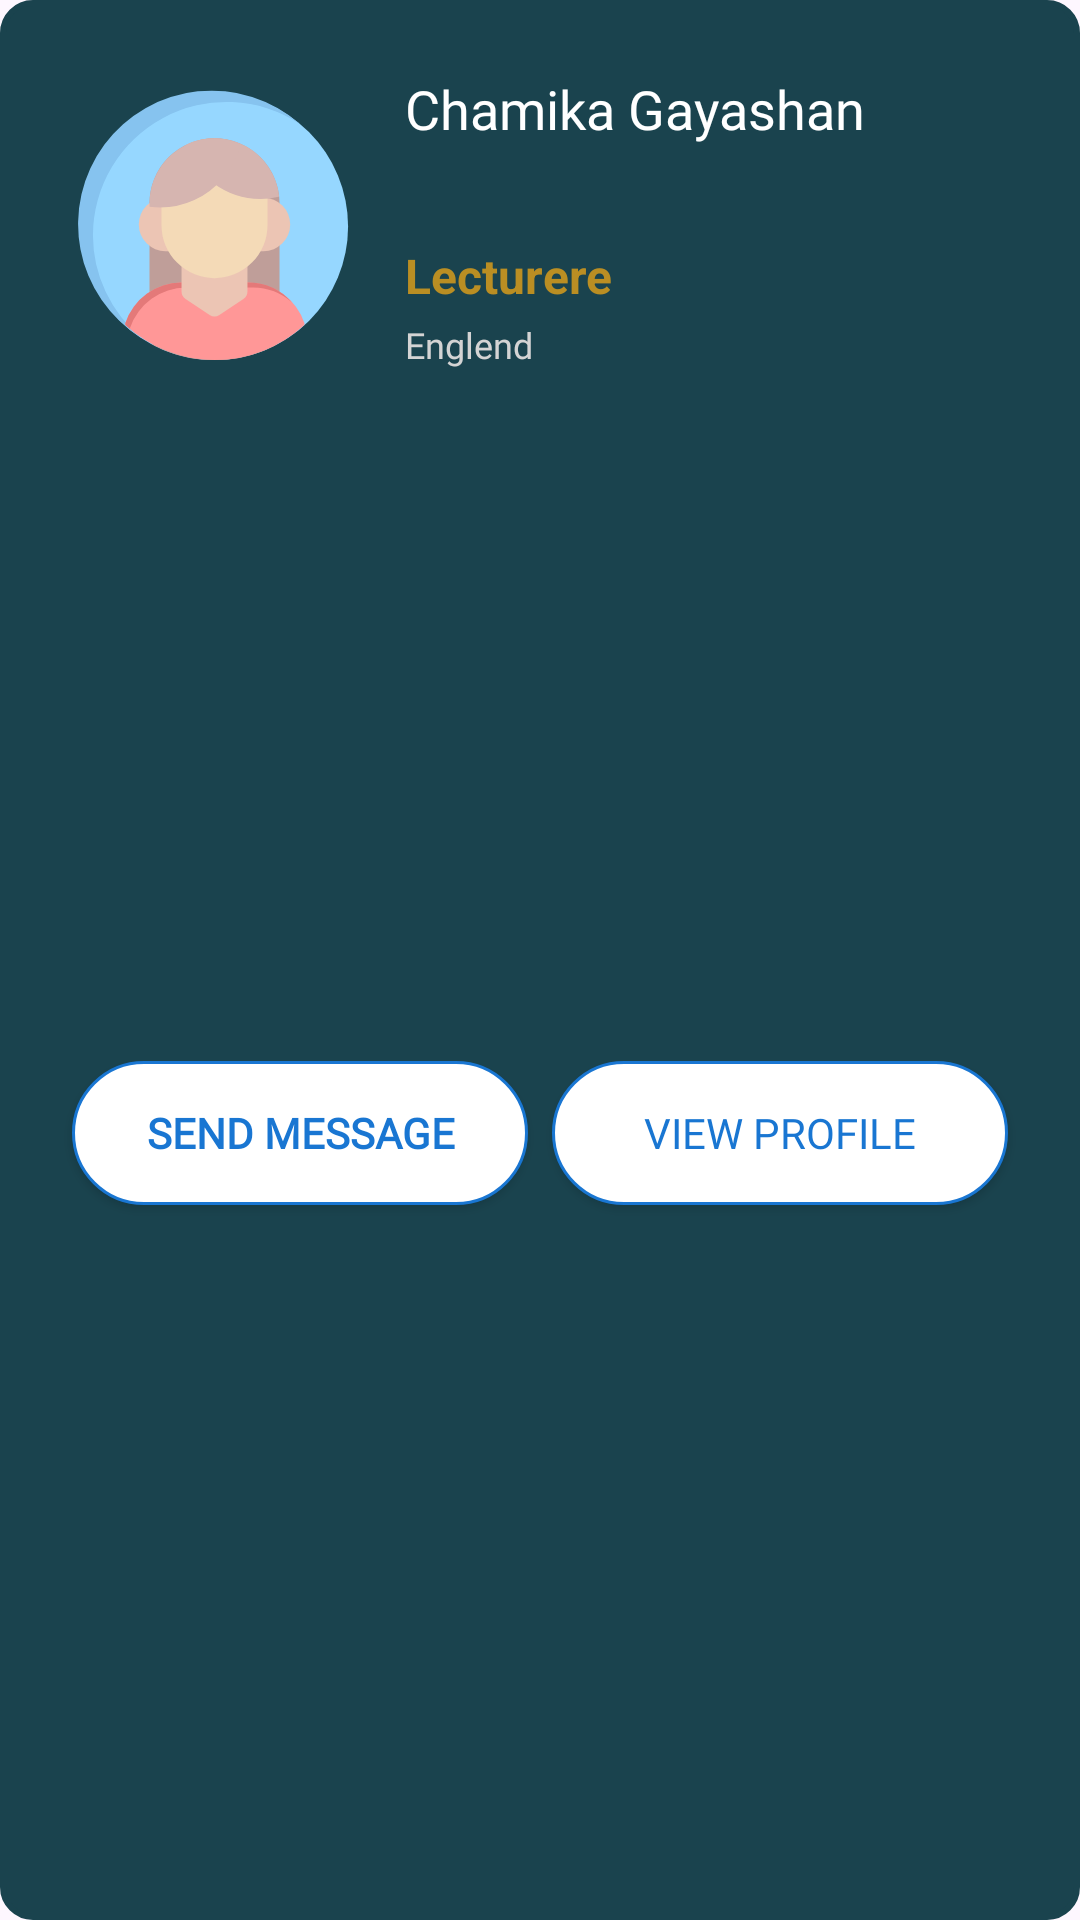

Screen size 1080*1920. Icon name, then its center in pixels as (x=x, y=y):
profile: (x=213, y=225)
